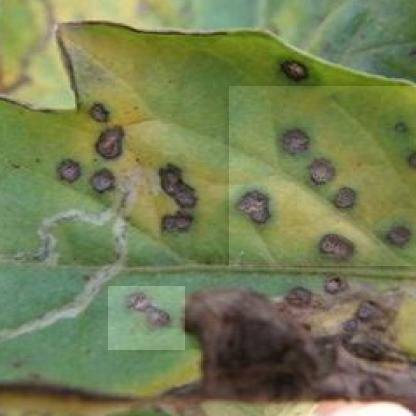black-spot: (229, 86, 416, 266), (42, 114, 225, 262), (108, 286, 185, 350)
